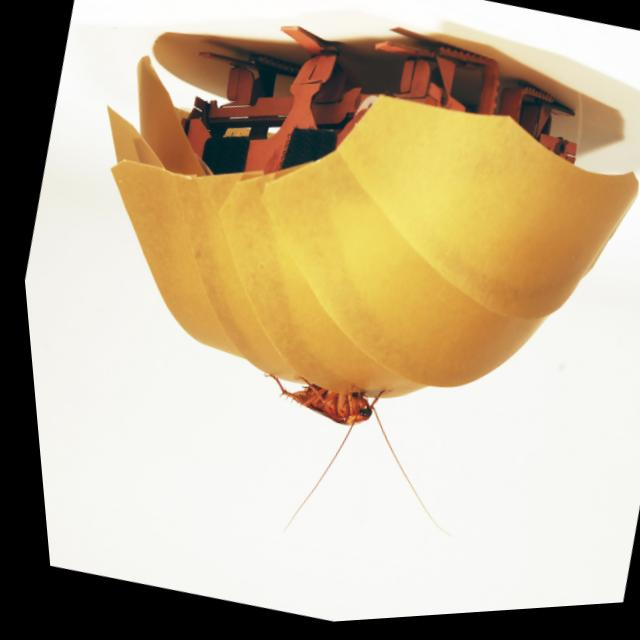Cockroach: (209, 333, 461, 584)
